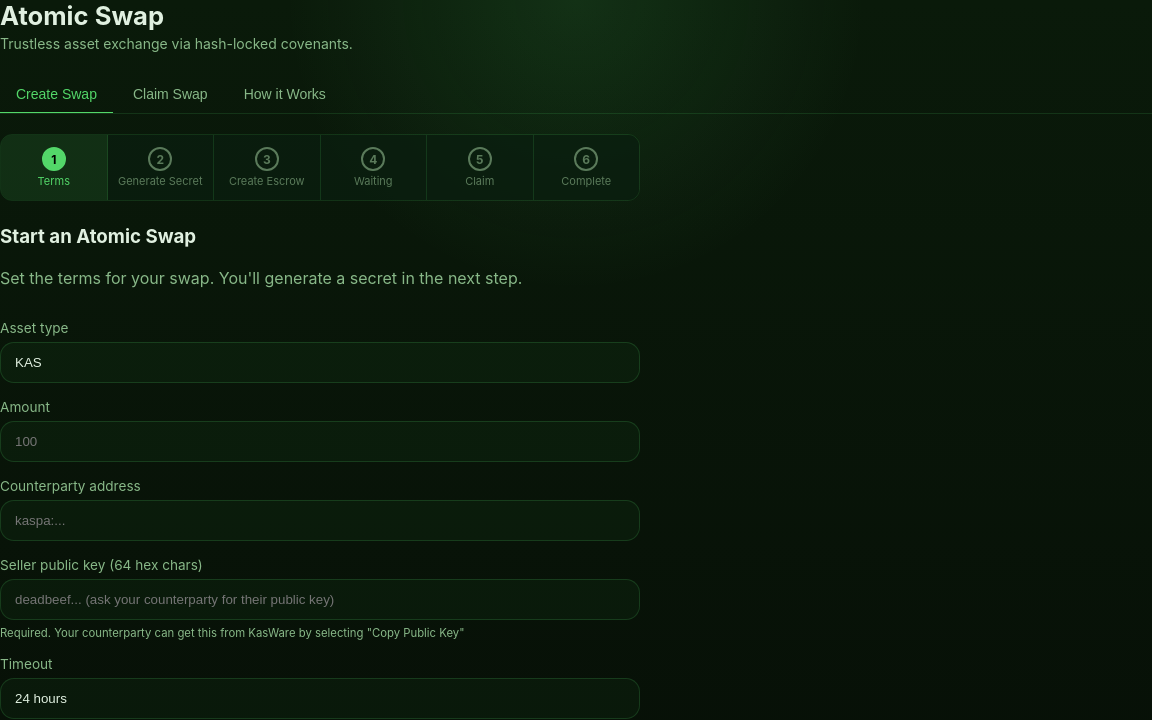
it: SwapPage › Claim tab renders escrow search
What coordinates should you click on to do the following:
click the button "Claim Swap"
I would click on:
 (170, 95)
Its box is [117,76,224,114].
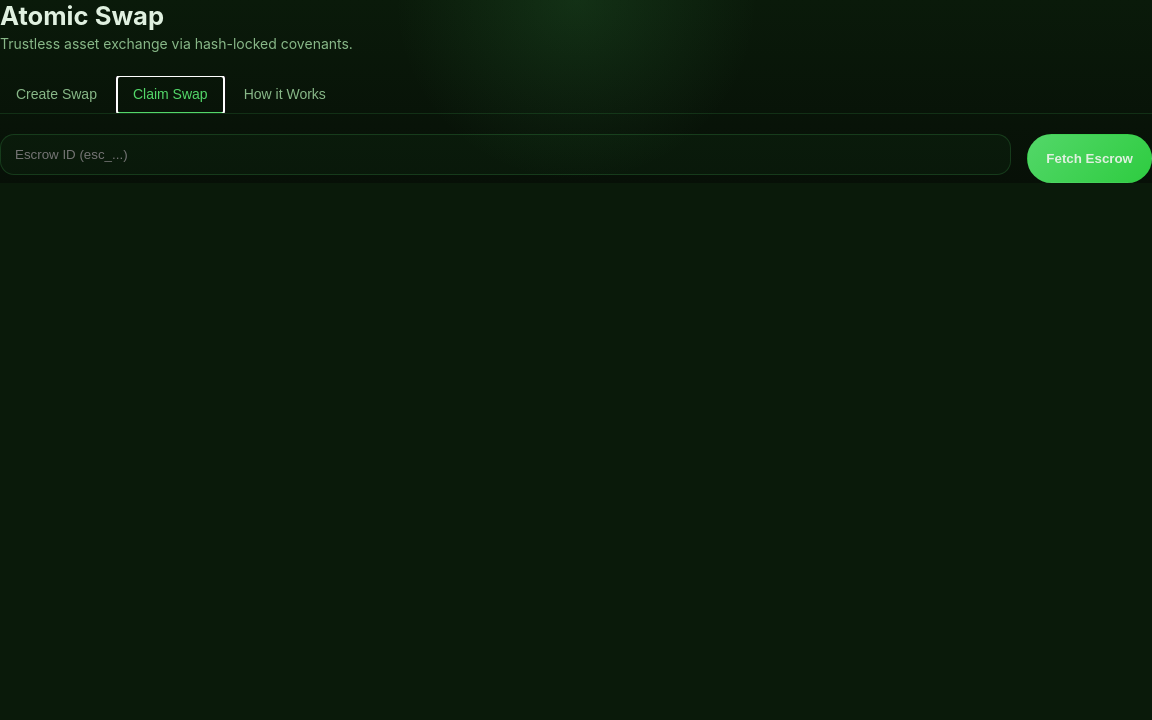
Check: the field with placeholder "Escrow ID (esc_...)" is shown, box [0,134,1011,175]
Check: the button "Fetch Escrow" is shown, box [1027,134,1151,183]
